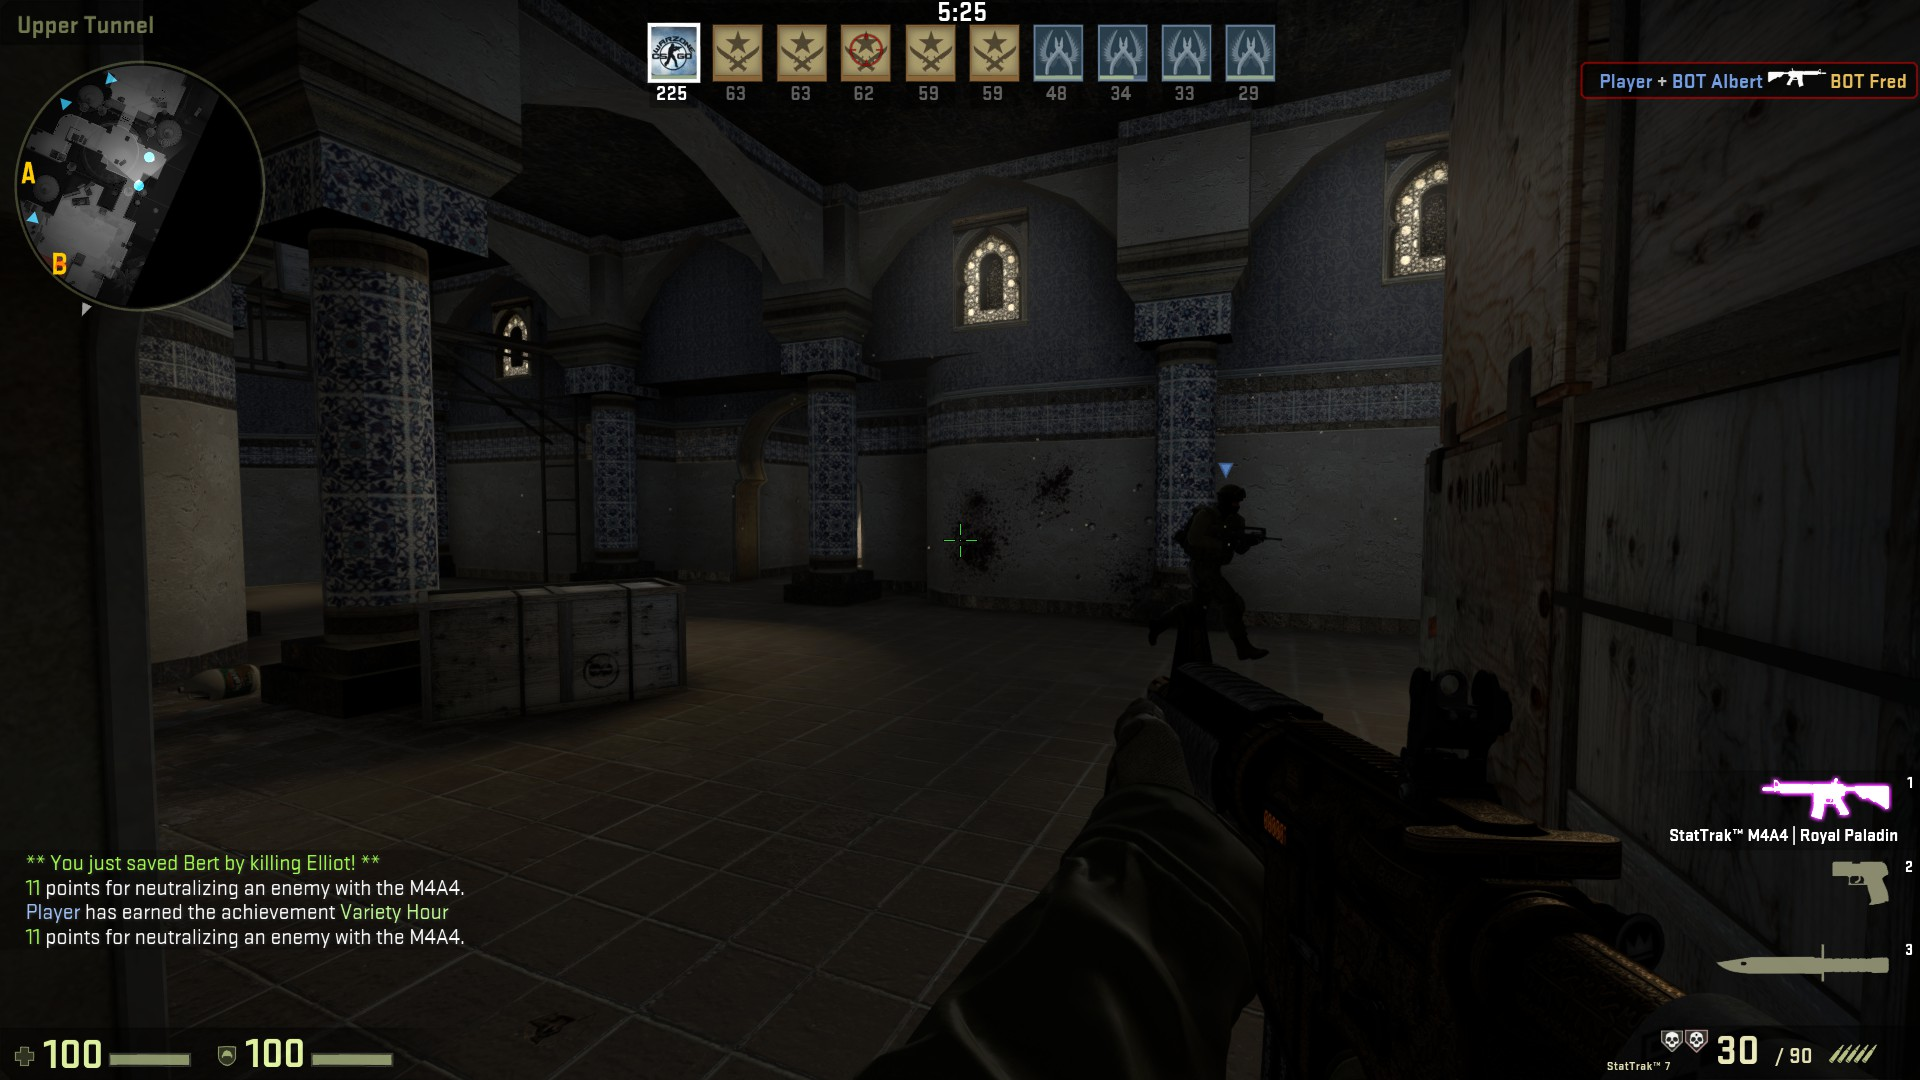ch: (1172, 477, 1259, 651), (1215, 483, 1247, 518)
